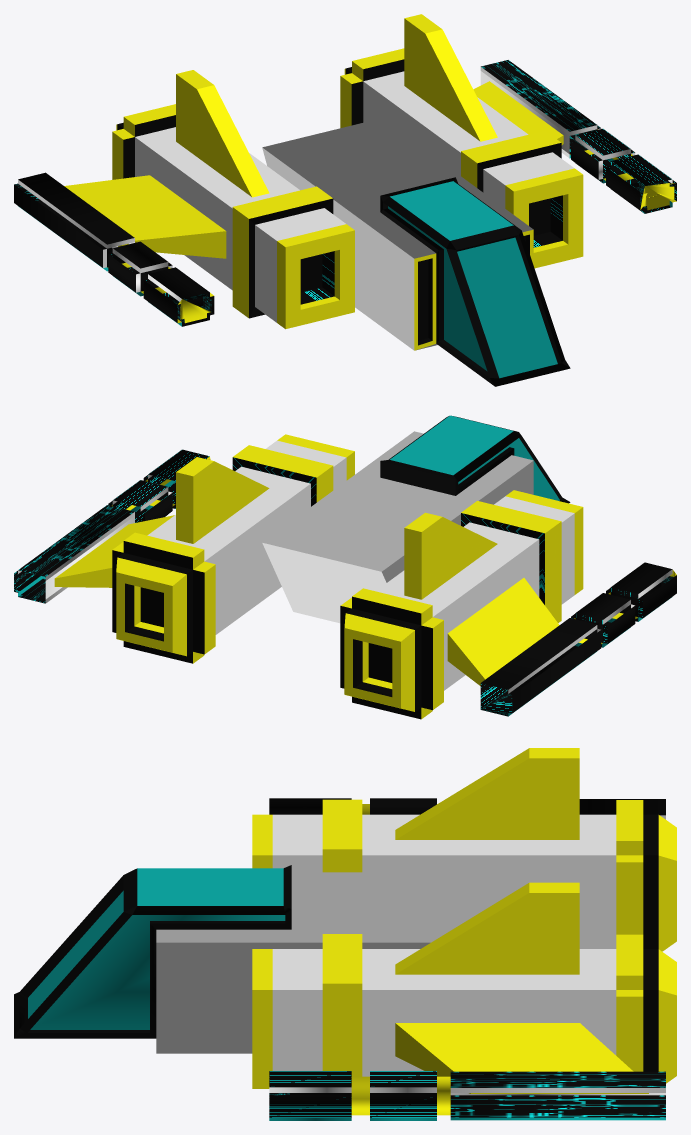
Rendered from Blocky_Space_Ship.glb.
The picture shows the model from 3 angles, top to bottom: view 1: azimuth 30°, elevation 25°; view 2: azimuth 150°, elevation 25°; view 3: azimuth 270°, elevation 25°; orthographic projection. The views are drawn at different scales.
Parts seen in each view (by area): view 1: RightWing_OrangeStripe_0, CockPit_Body_White_body_0, LeftWing_OrangeStripe_0, CockPit_Body_BlueCanopy_0, RightWing_White_body_0, LeftWing_White_body_0, CockPit_Body_Mat_0, RightGun_Mat_0, LeftGun_Mat.1_0, RightWing_Mat_0, LeftWing_Mat_0, LeftGun_White_body_0 (+9 smaller); view 2: RightWing_OrangeStripe_0, CockPit_Body_White_body_0, LeftWing_OrangeStripe_0, LeftWing_White_body_0, RightWing_White_body_0, RightGun_Mat_0, RightWing_Mat_0, LeftWing_Mat_0, LeftGun_Mat.1_0, CockPit_Body_BlueCanopy_0, CockPit_Body_Mat_0, RightGun__0 (+4 smaller); view 3: LeftWing_OrangeStripe_0, CockPit_Body_White_body_0, LeftWing_White_body_0, RightWing_OrangeStripe_0, RightWing_White_body_0, CockPit_Body_BlueCanopy_0, LeftGun_Mat.1_0, CockPit_Body_Mat_0, RightGun_Mat_0, LeftGun_White_body_0, RightWing_Mat_0, LeftWing_Mat_0 (+2 smaller).
Boxes of the visible parts, x1,y1,x2,y2 form: RightWing_OrangeStripe_0: (64, 70, 354, 329); CockPit_Body_White_body_0: (262, 118, 533, 350); LeftWing_OrangeStripe_0: (340, 14, 583, 268); CockPit_Body_BlueCanopy_0: (388, 181, 557, 378); RightWing_White_body_0: (135, 127, 345, 322); LeftWing_White_body_0: (363, 71, 574, 208); CockPit_Body_Mat_0: (380, 177, 570, 386); RightGun_Mat_0: (14, 172, 209, 326); LeftGun_Mat.1_0: (481, 60, 676, 213); RightWing_Mat_0: (117, 115, 333, 318); LeftWing_Mat_0: (345, 59, 561, 235); LeftGun_White_body_0: (480, 67, 672, 183); RightWing_OrangeStripe_0: (340, 490, 583, 719); CockPit_Body_White_body_0: (262, 431, 533, 623); LeftWing_OrangeStripe_0: (54, 434, 354, 663); LeftWing_White_body_0: (147, 440, 346, 634); RightWing_White_body_0: (376, 496, 574, 690); RightGun_Mat_0: (481, 562, 676, 712); RightWing_Mat_0: (340, 596, 432, 719); LeftWing_Mat_0: (112, 541, 204, 663); LeftGun_Mat.1_0: (14, 449, 209, 603); CockPit_Body_BlueCanopy_0: (390, 415, 559, 500); CockPit_Body_Mat_0: (380, 416, 570, 503); RightGun__0: (480, 576, 673, 716); LeftWing_OrangeStripe_0: (252, 882, 676, 1093); CockPit_Body_White_body_0: (156, 872, 523, 1053); LeftWing_White_body_0: (272, 949, 616, 1076); RightWing_OrangeStripe_0: (252, 748, 676, 951); RightWing_White_body_0: (272, 814, 616, 948); CockPit_Body_BlueCanopy_0: (28, 868, 285, 1029); LeftGun_Mat.1_0: (269, 1071, 665, 1117); CockPit_Body_Mat_0: (14, 865, 291, 1038); RightGun_Mat_0: (269, 798, 665, 815); LeftGun_White_body_0: (269, 1087, 665, 1095); RightWing_Mat_0: (643, 814, 658, 948); LeftWing_Mat_0: (643, 949, 658, 1071).
Size of the model in its own units: 127 by 39.95 by 121.
Materials: 6 (2 with a texture image).
